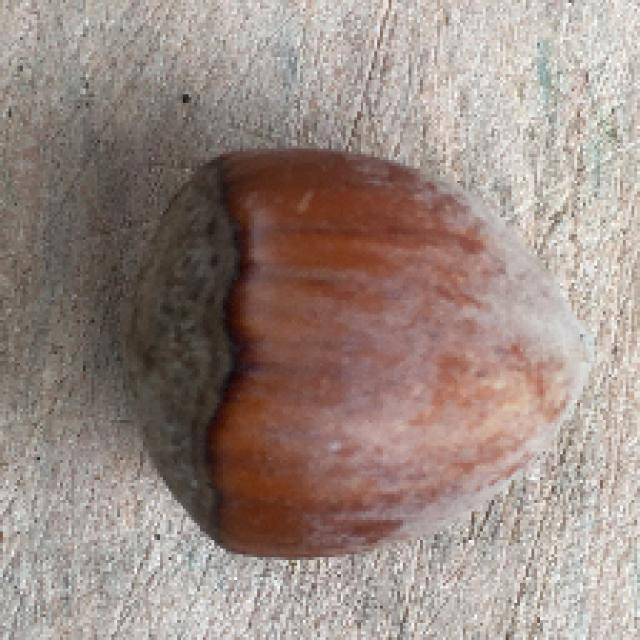qualityHazelnut: (110, 141, 591, 573)
